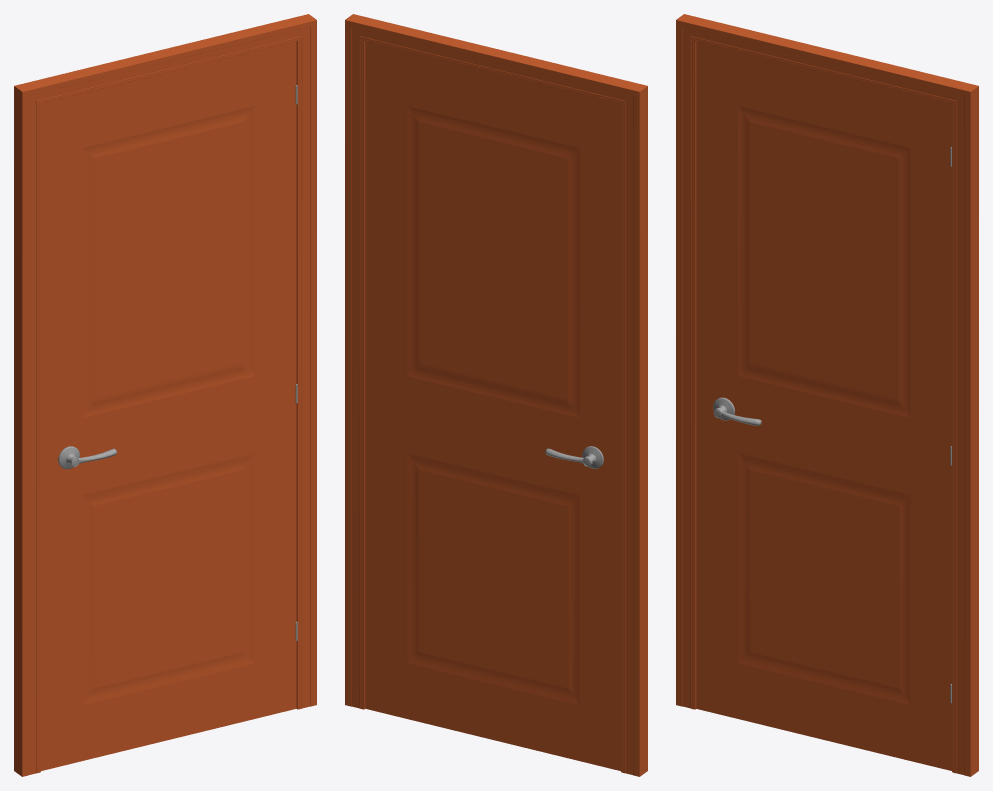
The model's file is CCIDOOR2.obj.
3 views of the same model, side by side, from view 1: azimuth 30°, elevation 25°; view 2: azimuth 150°, elevation 25°; view 3: azimuth 330°, elevation 25° (orthographic).
Visible parts, largest first — view 1: door_frame, door_casing; view 2: door_frame, door_casing; view 3: door_frame, door_casing.
Boxes of the visible parts, x1,y1,x2,y2 form: door_frame: (41,41,296,770); door_casing: (14,14,316,776); door_frame: (365,41,620,770); door_casing: (345,14,647,776); door_frame: (696,41,951,770); door_casing: (676,14,978,776).
Size of the model in its own units: 0.9144 by 2.03 by 0.1251.
2 materials, 1 textured.
